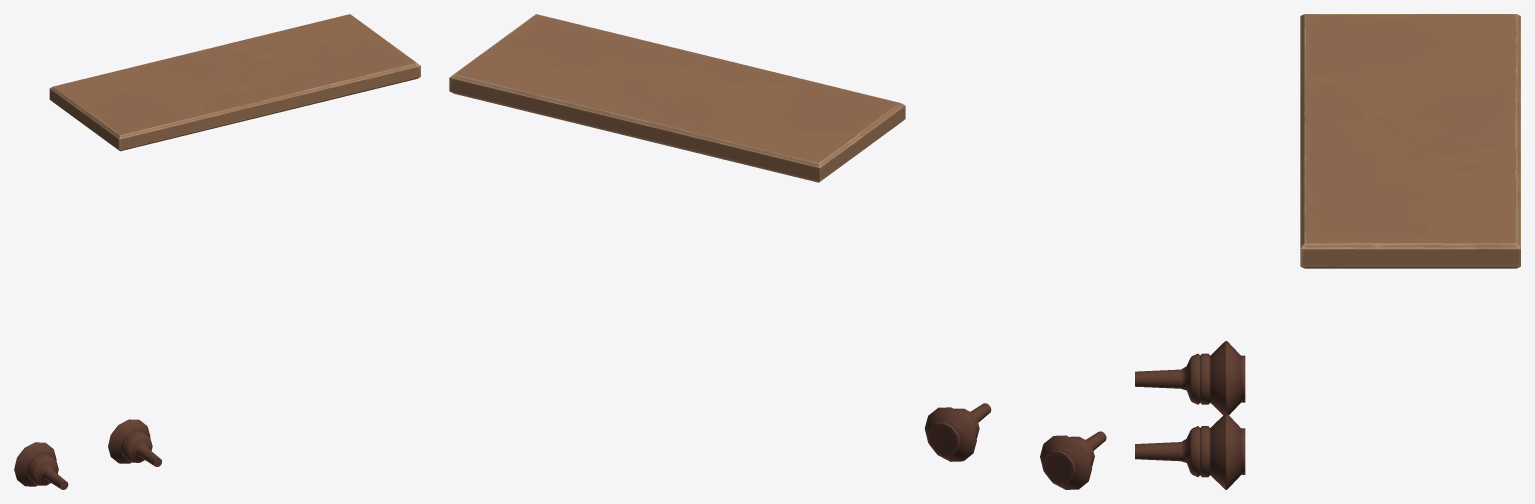
The model's file is TwoTierShelf_Top.fbx.
The picture shows the model from 3 angles, left to right: view 1: azimuth 30°, elevation 25°; view 2: azimuth 150°, elevation 25°; view 3: azimuth 270°, elevation 25°; orthographic projection. The views are drawn at different scales.
Visible parts, largest first — view 1: MiddleShelf (1), footStick, footStick (1); view 2: MiddleShelf (1), footStick (1), footStick; view 3: MiddleShelf (1), footStick (1), footStick.
Part boxes in pixels (box(x1,y1,x2,y2)): MiddleShelf (1): box(49, 14, 420, 151); footStick: box(14, 442, 68, 489); footStick (1): box(108, 419, 161, 466); MiddleShelf (1): box(449, 14, 905, 182); footStick (1): box(924, 403, 991, 461); footStick: box(1040, 431, 1106, 489); MiddleShelf (1): box(1300, 14, 1520, 268); footStick (1): box(1135, 413, 1245, 489); footStick: box(1135, 341, 1245, 415).
Bounding box in the file's own units: 1425 × 970 × 700.
